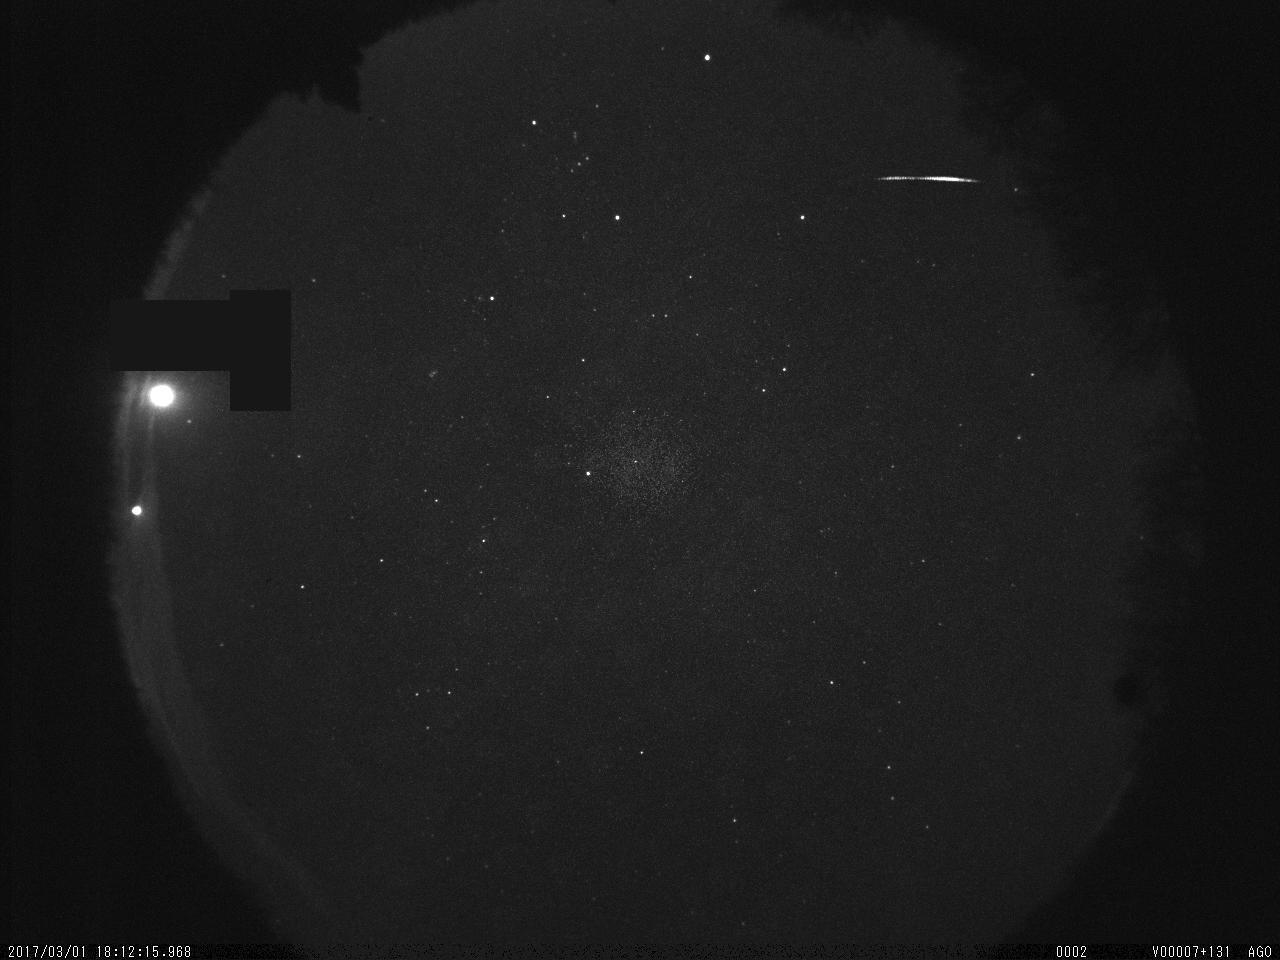meteor: (858, 161, 992, 203)
